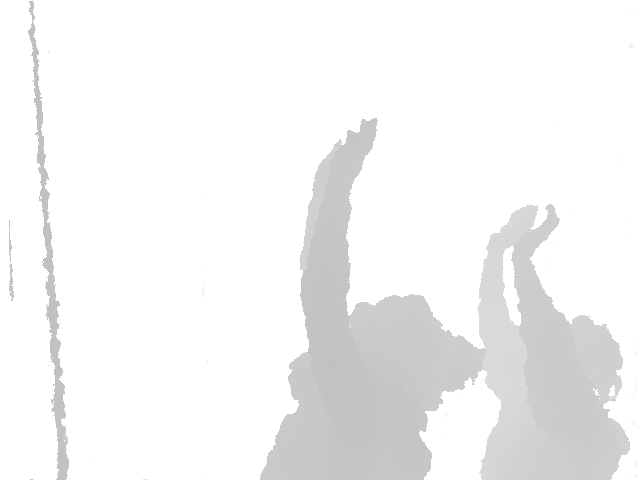hand: (323, 113, 382, 182), (481, 206, 544, 253), (514, 206, 564, 258)
head: (347, 292, 480, 420), (557, 312, 624, 415)
person: (260, 116, 476, 480), (465, 205, 636, 480)
